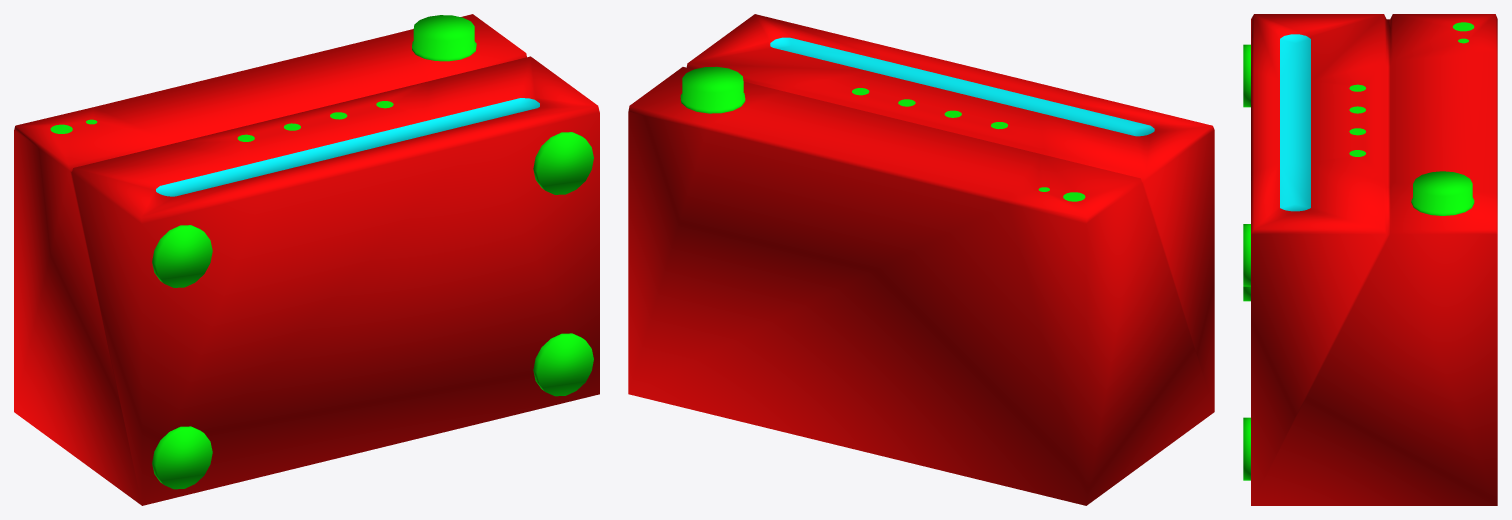
Rendered from KinoDomowe_main mesh.FBX.
3 views of the same model, side by side, from view 1: azimuth 30°, elevation 25°; view 2: azimuth 150°, elevation 25°; view 3: azimuth 270°, elevation 25° (orthographic). The views are drawn at different scales.
Visible parts, largest first — view 1: KinoDomowe_main mesh; view 2: KinoDomowe_main mesh; view 3: KinoDomowe_main mesh.
Boxes of the visible parts, x1,y1,x2,y2 form: KinoDomowe_main mesh: (14,14,599,505); KinoDomowe_main mesh: (628,14,1214,505); KinoDomowe_main mesh: (1243,14,1497,505).
Size of the model in its own units: 0.5 by 0.25 by 0.3206.
